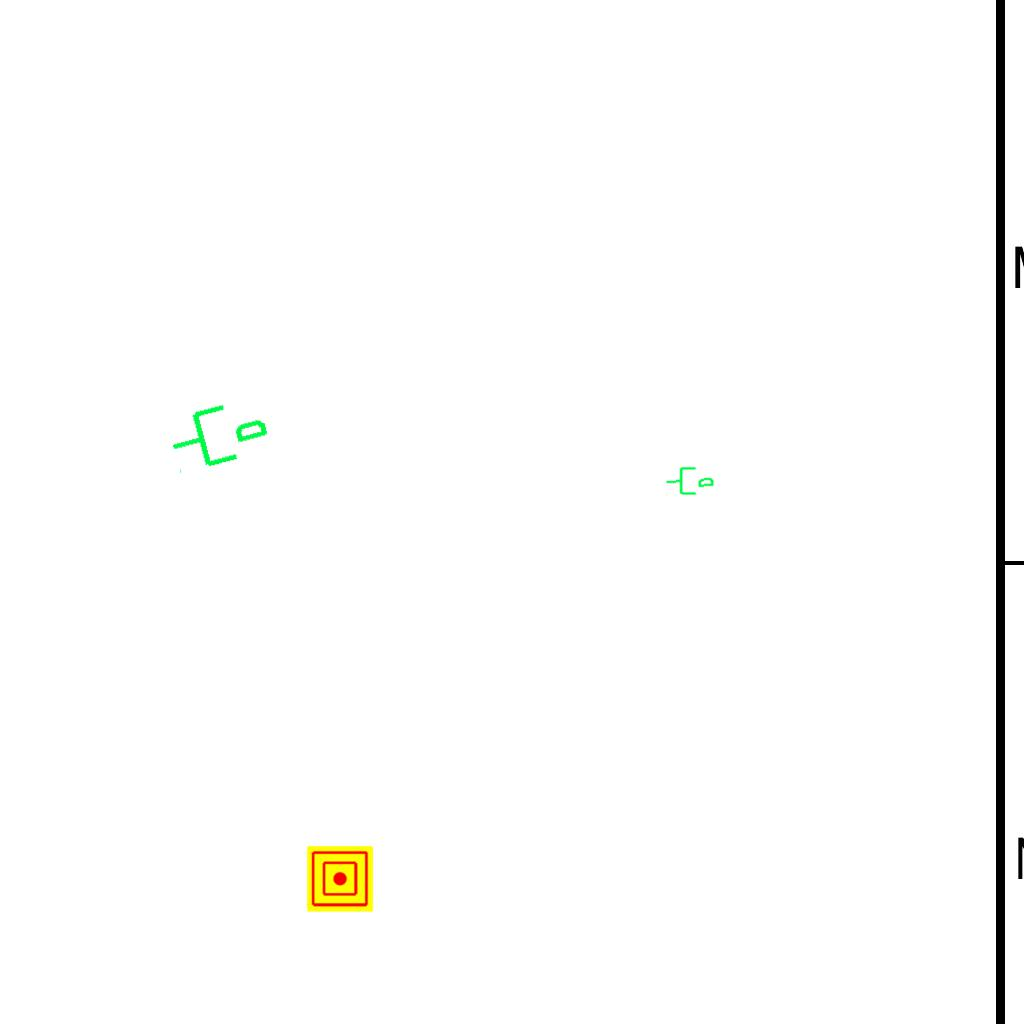Datenanschluss_einfach: (161, 386, 276, 480), (664, 462, 716, 498)
NAM-Nichtautomatischer_Melder: (307, 846, 373, 912)
